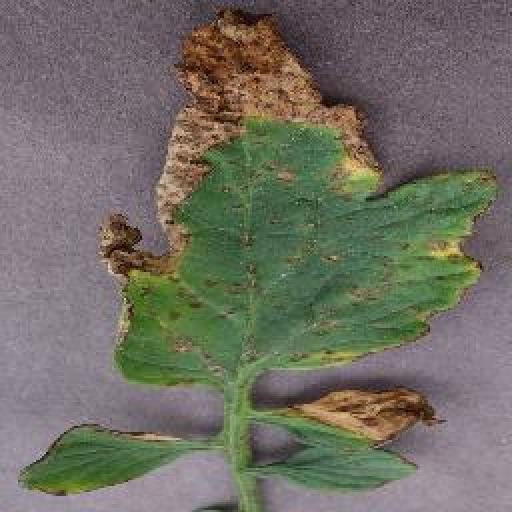Bacterial Spot: (99, 1, 501, 391), (16, 416, 195, 503), (273, 387, 447, 453)
